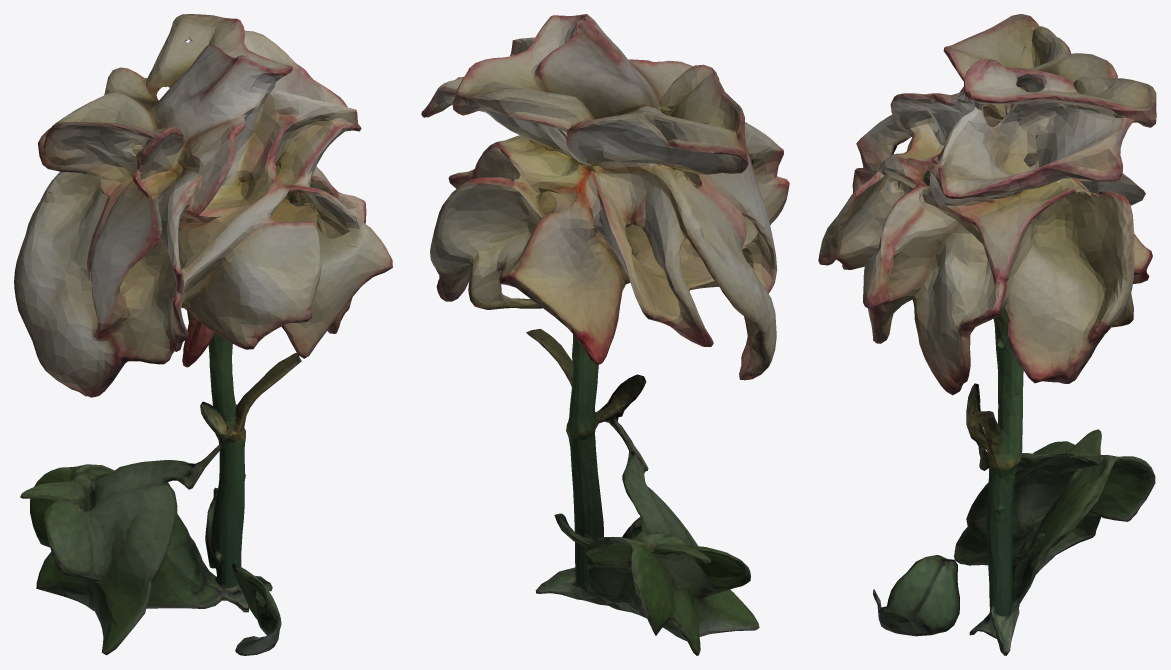
3 renders of one model, left to right at view 1: azimuth 30°, elevation 25°; view 2: azimuth 150°, elevation 25°; view 3: azimuth 270°, elevation 25°, orthographic. The views are drawn at different scales.
Parts seen in each view (by area): view 1: world; view 2: world; view 3: world.
Part boxes in pixels (x1,y1,x2,y2): world: (14, 14, 392, 655); world: (421, 14, 789, 655); world: (818, 14, 1156, 655).
Bounding box in the file's own units: 0.6113 × 1 × 0.5285.
Materials: 1 (1 with a texture image).
